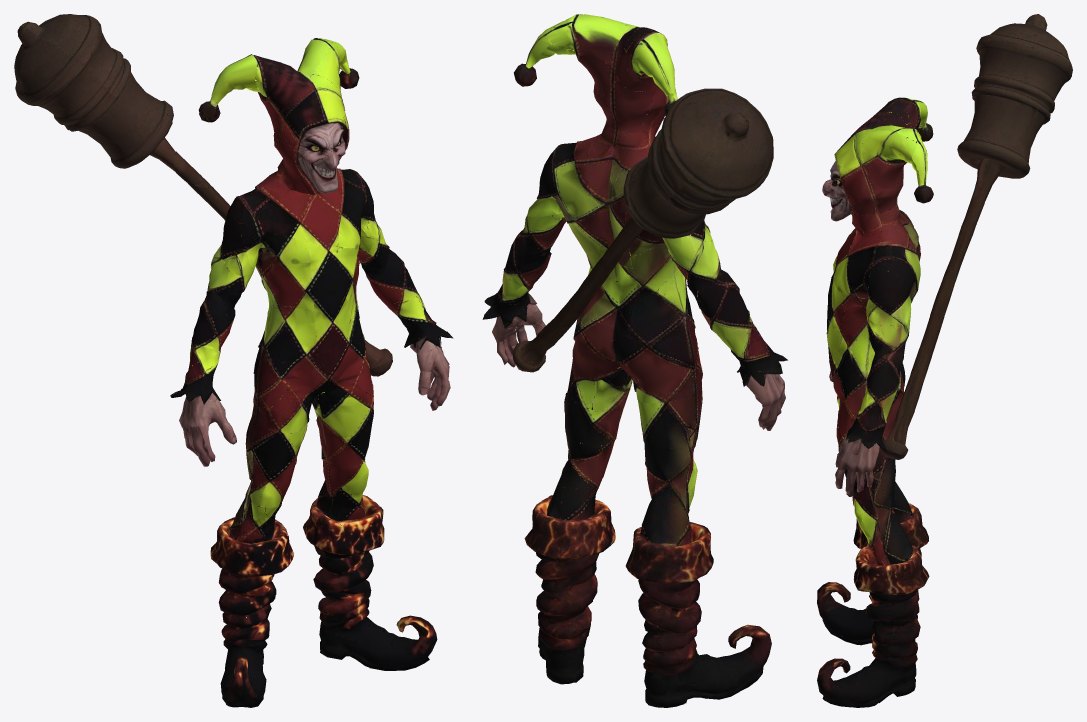
Rendered from 05_mallet_jester.glb.
3 renders of one model, left to right at view 1: azimuth 30°, elevation 25°; view 2: azimuth 150°, elevation 25°; view 3: azimuth 270°, elevation 25°, orthographic. The views are drawn at different scales.
Parts seen in each view (by area): view 1: mesh_node; view 2: mesh_node; view 3: mesh_node.
Boxes of the visible parts, <box> form: mesh_node: <box>14,14,453,707</box>; mesh_node: <box>482,14,787,707</box>; mesh_node: <box>817,14,1072,707</box>.
Size of the model in its own units: 1.07 by 1.9 by 0.7695.
1 material, 1 textured.
